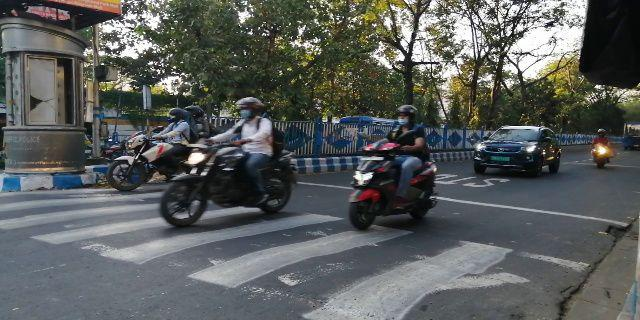Car: (470, 123, 560, 177)
Motorbike: (160, 98, 296, 228), (343, 102, 440, 229), (97, 110, 207, 182), (586, 121, 614, 176)
